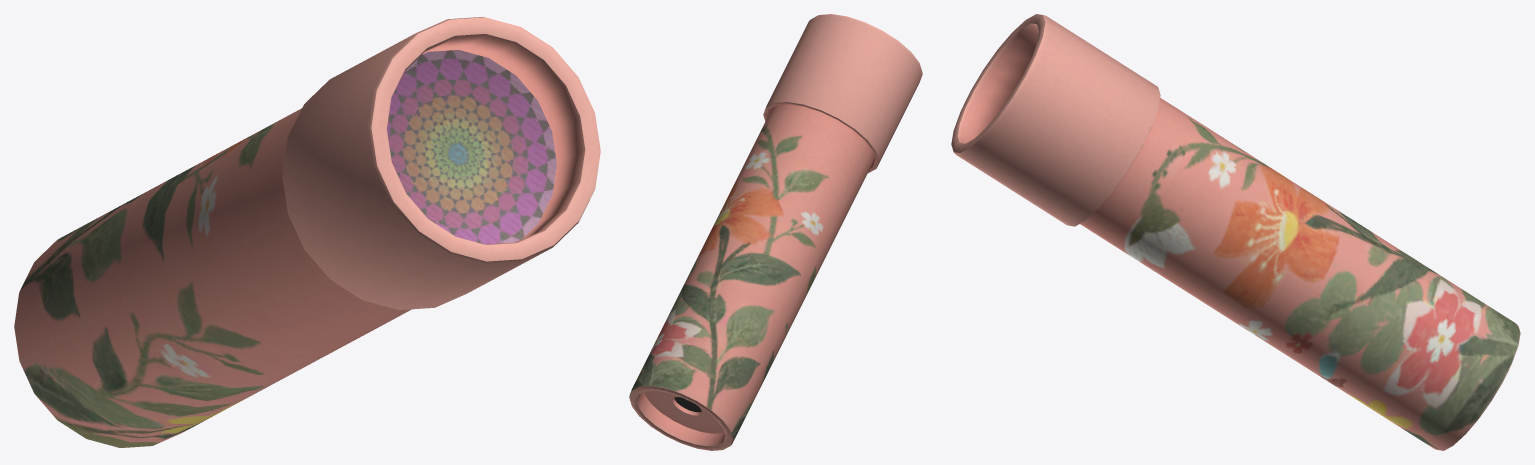
File: GTKaleidoscope.glb
3 views of the same model, side by side, from view 1: azimuth 30°, elevation 25°; view 2: azimuth 150°, elevation 25°; view 3: azimuth 270°, elevation 25° (orthographic). The views are drawn at different scales.
Visible parts, largest first — view 1: wanhuatong; view 2: wanhuatong; view 3: wanhuatong.
Part boxes in pixels (bbox=[...]): wanhuatong: bbox=[14, 17, 600, 447]; wanhuatong: bbox=[629, 14, 922, 450]; wanhuatong: bbox=[951, 14, 1520, 450].
Bounding box in the file's own units: 0.7791 × 2.18 × 2.67.
Materials: 2 (2 with a texture image).
